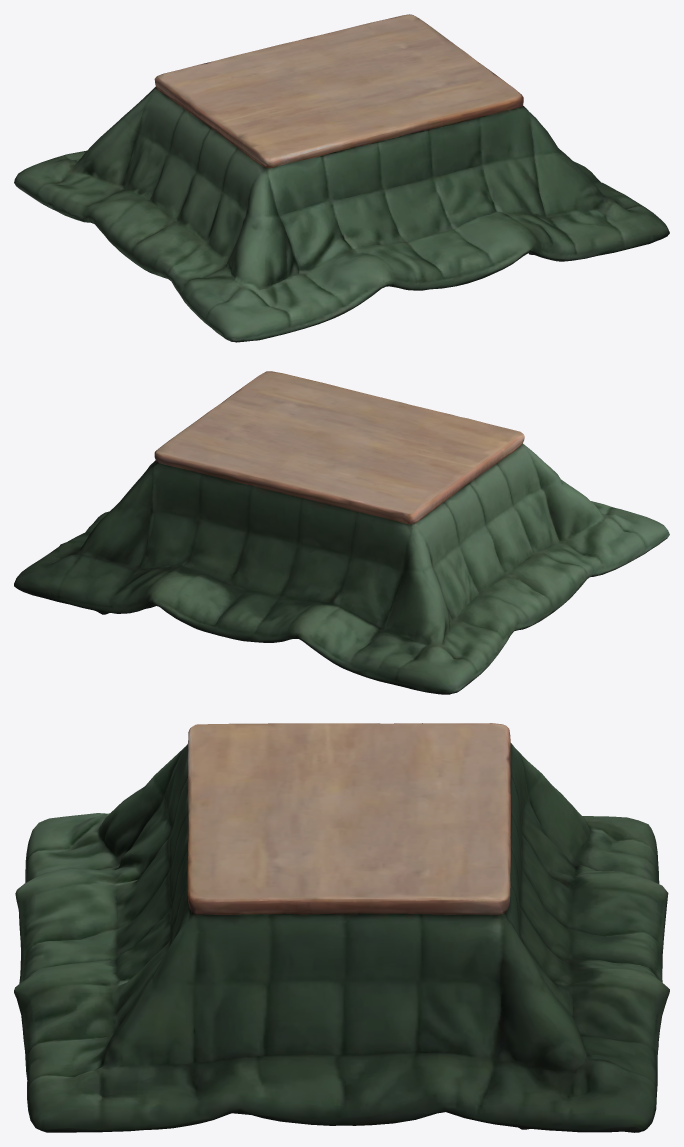
3 views of the same model, one above another, from view 1: azimuth 30°, elevation 25°; view 2: azimuth 150°, elevation 25°; view 3: azimuth 270°, elevation 25° (orthographic). The views are drawn at different scales.
Parts seen in each view (by area): view 1: Mesh_0; view 2: Mesh_0; view 3: Mesh_0.
Boxes of the visible parts, x1=… form: Mesh_0: x1=14, y1=14, x2=669, y2=342; Mesh_0: x1=14, y1=371, x2=669, y2=694; Mesh_0: x1=14, y1=723, x2=669, y2=1132.
Bounding box in the file's own units: 1.46 × 0.4 × 1.34.
1 material, 1 textured.
